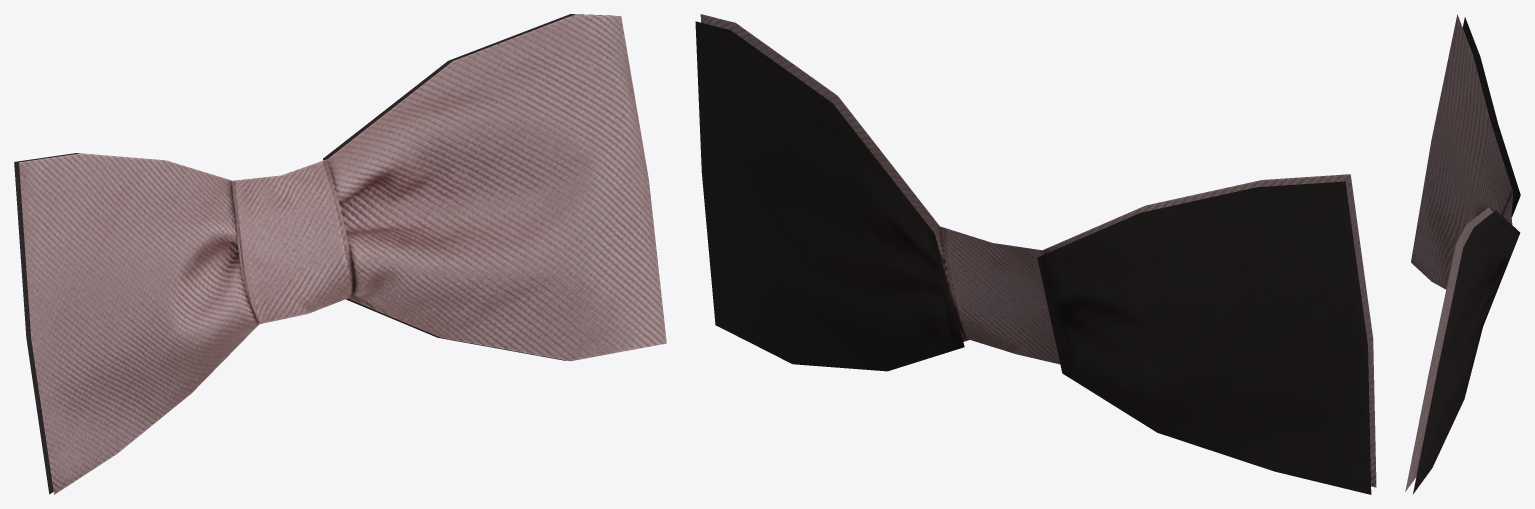
Rendered from TPBowtie.fbx.
The picture shows the model from 3 angles, left to right: view 1: azimuth 30°, elevation 25°; view 2: azimuth 150°, elevation 25°; view 3: azimuth 270°, elevation 25°; orthographic projection. The views are drawn at different scales.
Visible parts, largest first — view 1: TPBowtie; view 2: TPBowtie; view 3: TPBowtie.
Part boxes in pixels (x1,y1,x2,y2): TPBowtie: (14, 14, 666, 494); TPBowtie: (695, 14, 1376, 494); TPBowtie: (1405, 14, 1520, 493).
Bounding box in the file's own units: 11.21 × 5.59 × 2.3.
Materials: 1 (1 with a texture image).
